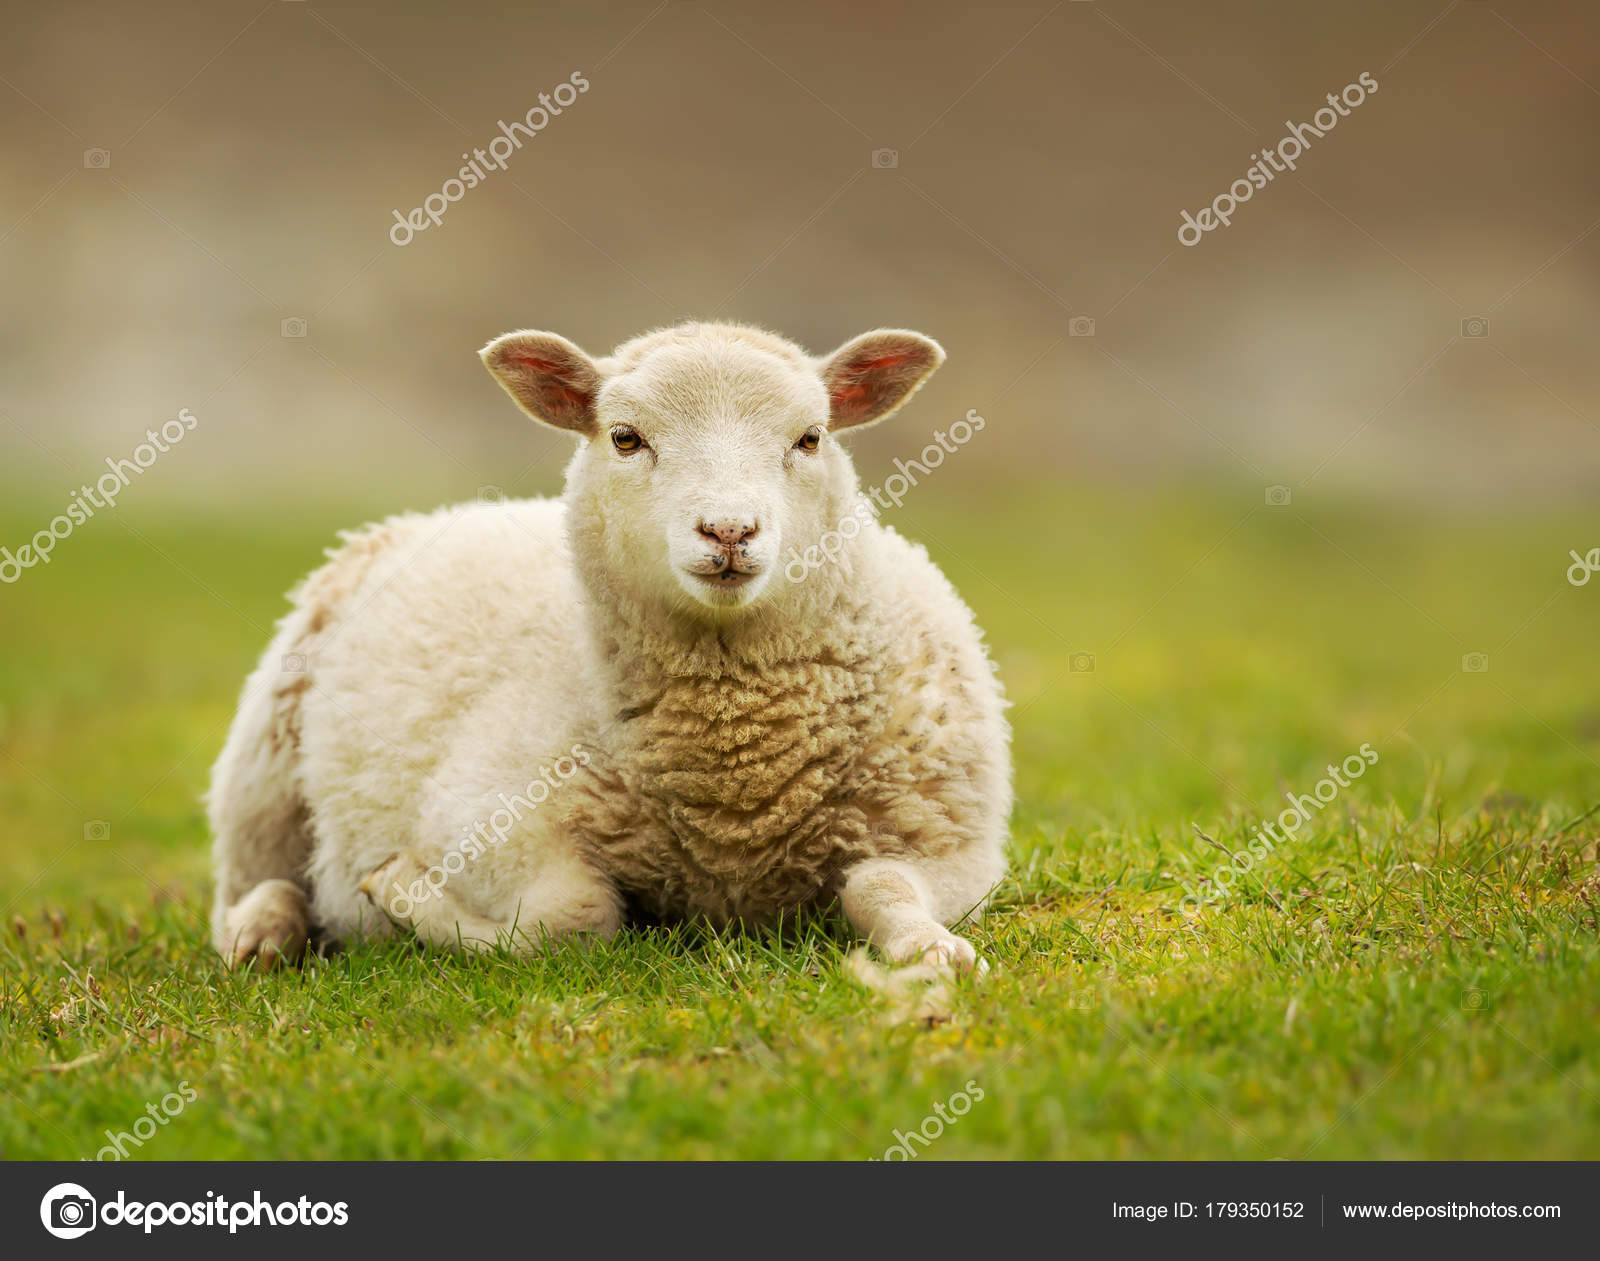koyun: (208, 314, 1012, 1025)
